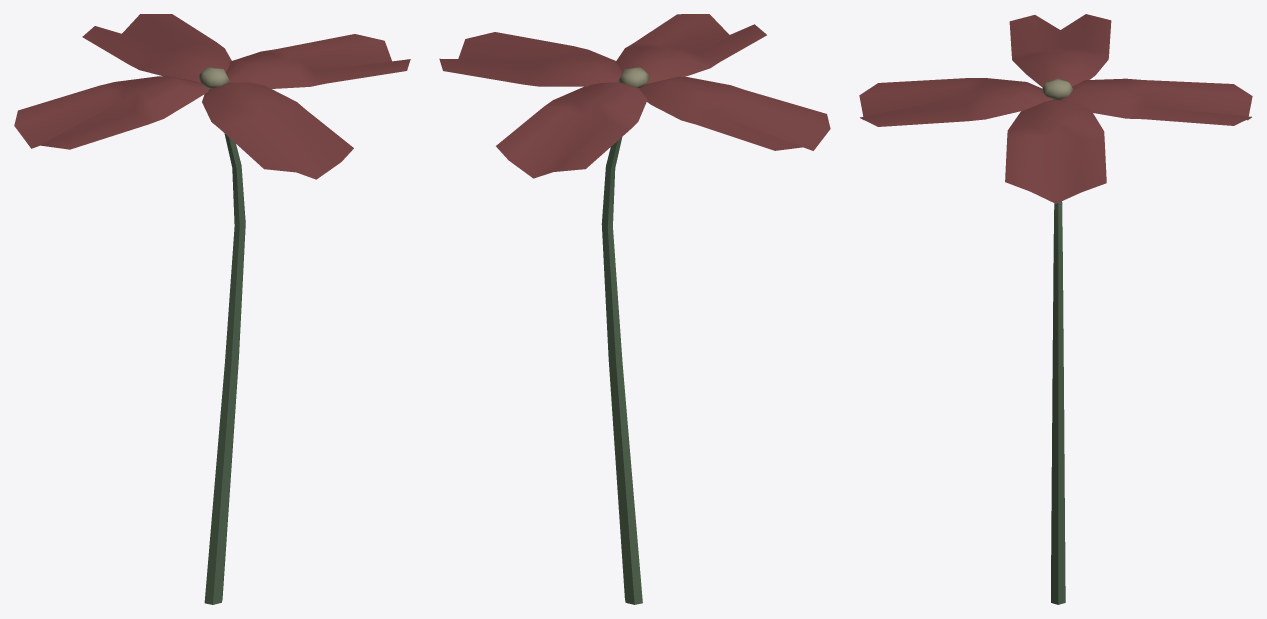
Rendered from M_Flower2.fbx.
3 renders of one model, left to right at view 1: azimuth 30°, elevation 25°; view 2: azimuth 150°, elevation 25°; view 3: azimuth 270°, elevation 25°, orthographic. The views are drawn at different scales.
Parts seen in each view (by area): view 1: polySurface249; view 2: polySurface249; view 3: polySurface249.
Boxes of the visible parts, x1=… form: polySurface249: x1=14, y1=14, x2=410, y2=604; polySurface249: x1=439, y1=14, x2=830, y2=604; polySurface249: x1=859, y1=14, x2=1252, y2=604.
Bounding box in the file's own units: 0.2612 × 0.3609 × 0.2474.
